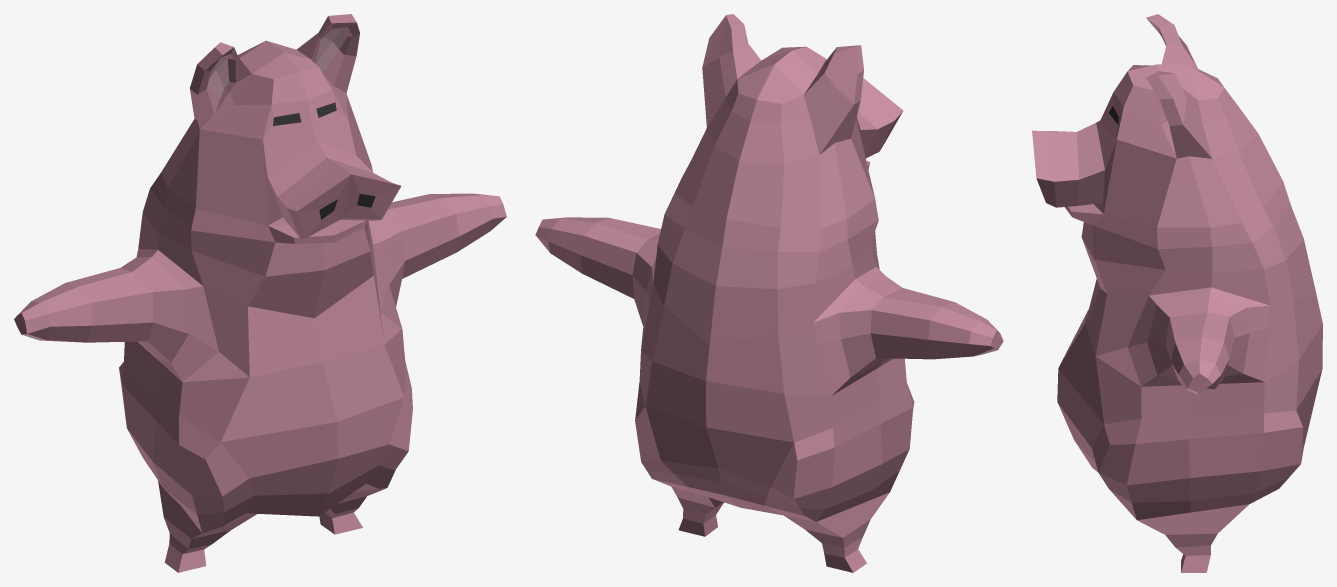
The model's file is pig.glb.
The picture shows the model from 3 angles, left to right: view 1: azimuth 30°, elevation 25°; view 2: azimuth 150°, elevation 25°; view 3: azimuth 270°, elevation 25°; orthographic projection. The views are drawn at different scales.
Parts seen in each view (by area): view 1: pig; view 2: pig; view 3: pig.
Boxes of the visible parts, left/top/right/bottom form: pig: left=14, top=14, right=506, bottom=572; pig: left=535, top=14, right=1003, bottom=572; pig: left=1032, top=14, right=1322, bottom=572.
Size of the model in its own units: 1.25 by 1.32 by 0.7137.
